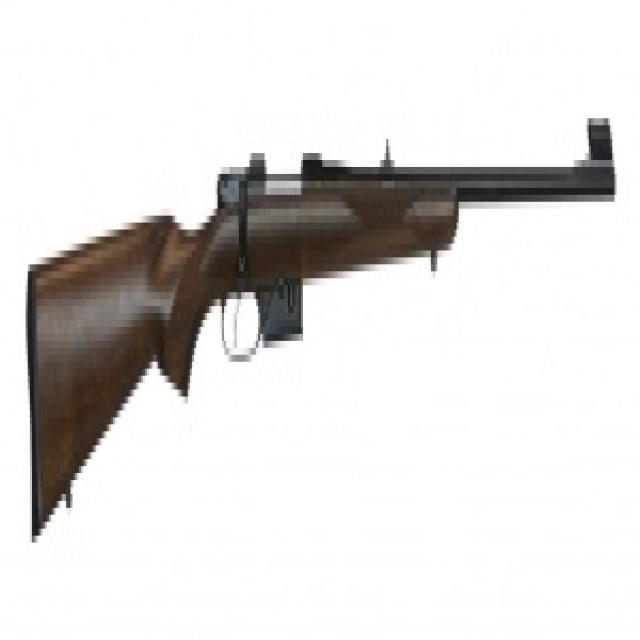rifle: (20, 85, 623, 548)
